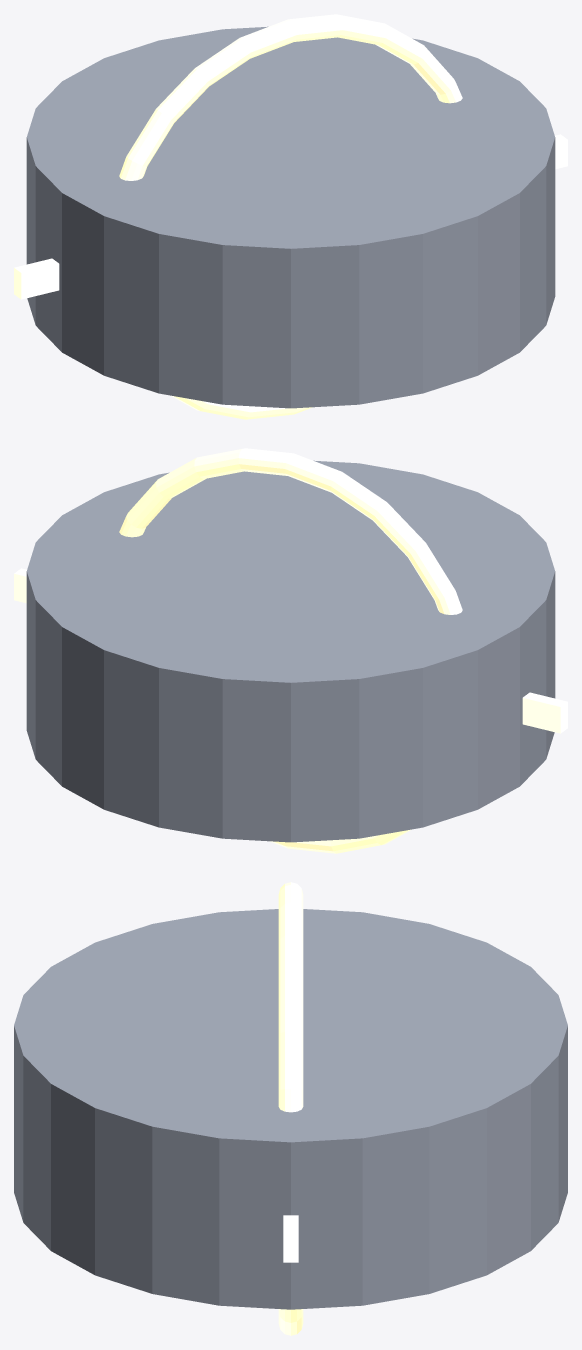
File: stun_mine.glb
3 views of the same model, one above another, from view 1: azimuth 30°, elevation 25°; view 2: azimuth 150°, elevation 25°; view 3: azimuth 270°, elevation 25° (orthographic). The views are drawn at different scales.
Visible parts, largest first — view 1: disc, mine_warn, spike_b; view 2: disc, mine_warn, spike_b; view 3: disc, mine_warn, spike_a.
Part boxes in pixels (x1,y1,x2,y2): disc: (26,26,555,408); mine_warn: (119,14,462,419); spike_b: (14,258,59,299); disc: (26,460,555,842); mine_warn: (119,448,462,853); spike_b: (522,692,567,733); disc: (14,909,567,1309); mine_warn: (278,882,303,1335); spike_a: (283,1215,298,1262).
Bounding box in the file's own units: 0.43 × 0.296 × 0.36.
